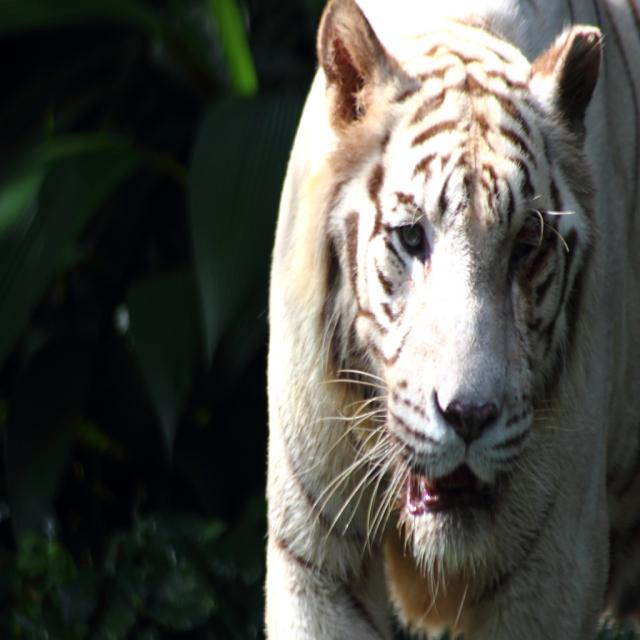Tiger: (261, 0, 639, 639)
